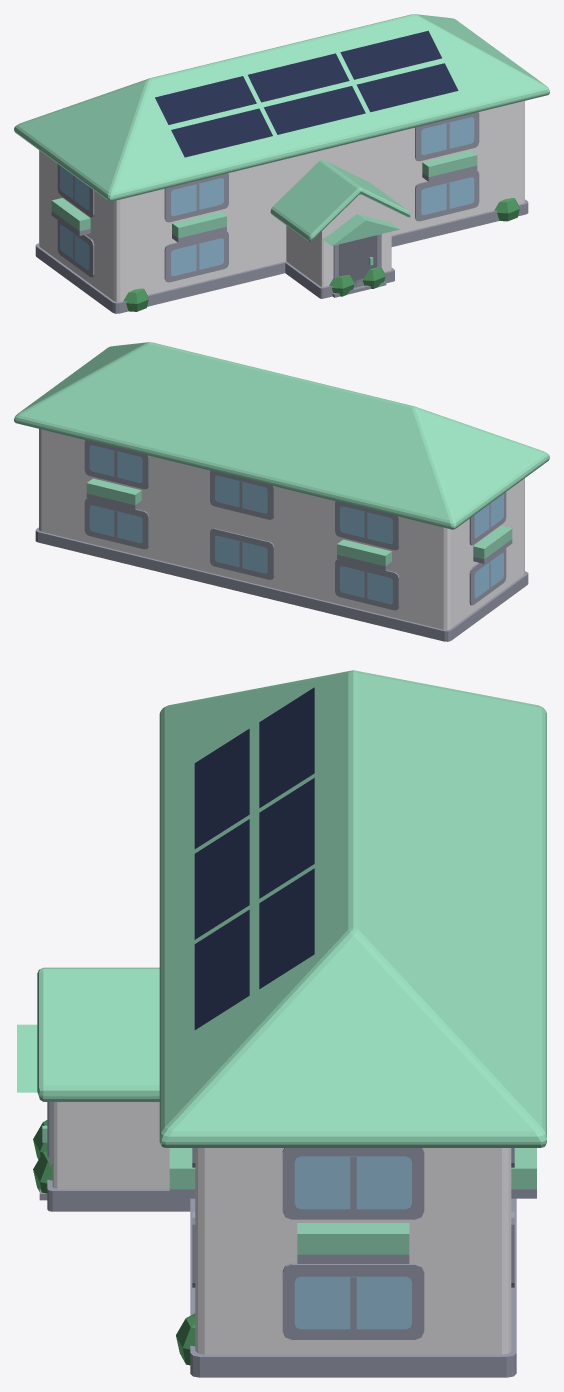
Rendered from house-2x1-2f-third-tone-a-solar.glb.
3 renders of one model, top to bottom at view 1: azimuth 30°, elevation 25°; view 2: azimuth 150°, elevation 25°; view 3: azimuth 270°, elevation 25°, orthographic. The views are drawn at different scales.
Visible parts, largest first — view 1: house-2x1-2f-third-tone-a-solar; view 2: house-2x1-2f-third-tone-a-solar; view 3: house-2x1-2f-third-tone-a-solar.
Boxes of the visible parts, box(x1,y1,x2,y2) form: house-2x1-2f-third-tone-a-solar: box(14, 14, 549, 313); house-2x1-2f-third-tone-a-solar: box(14, 342, 549, 641); house-2x1-2f-third-tone-a-solar: box(17, 670, 546, 1377).
Bounding box in the file's own units: 2 × 0.812 × 1.04.
1 material, 1 textured.
